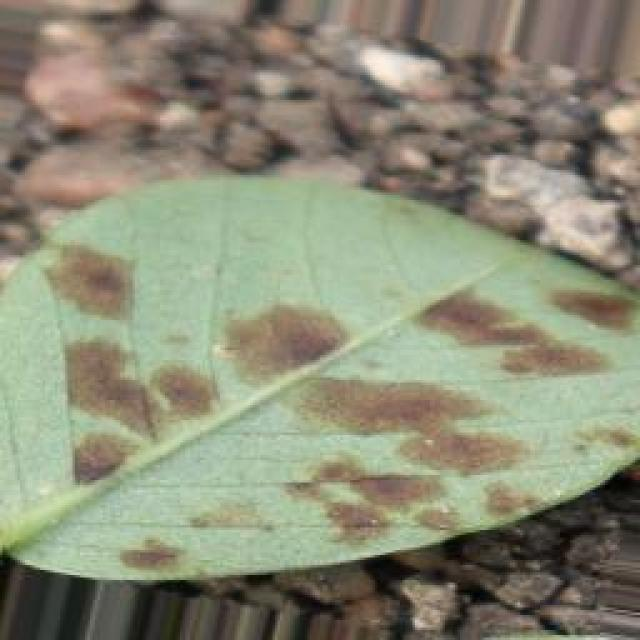Whitefly: (0, 170, 640, 610)
